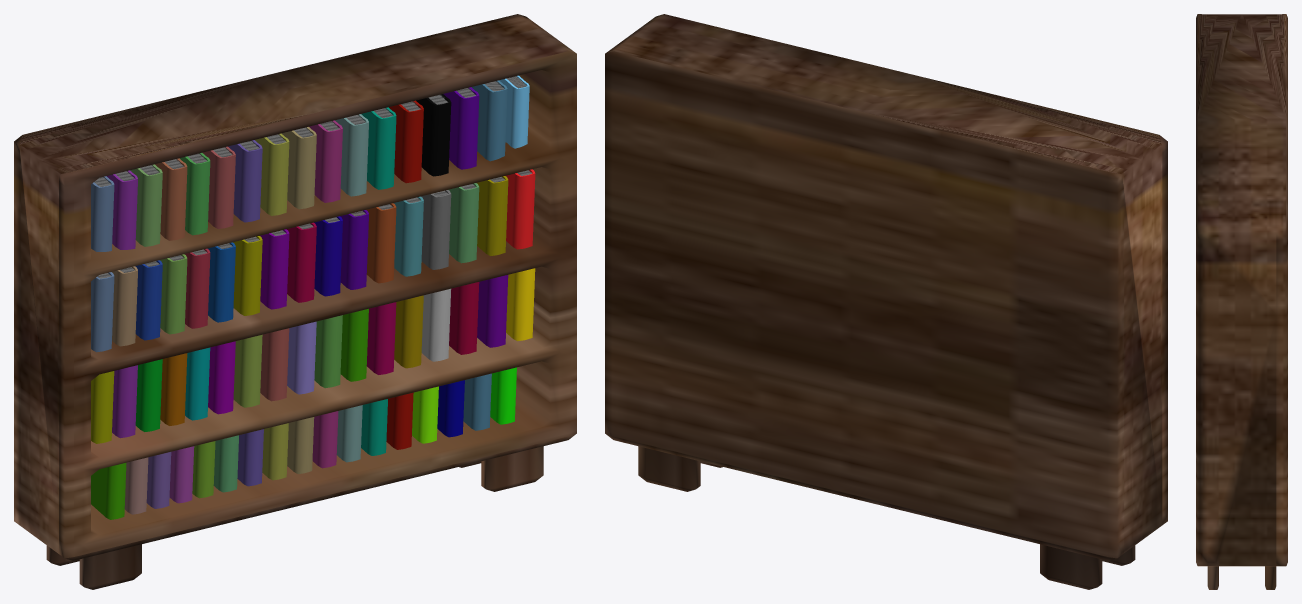
Rendered from librero.fbx.
3 renders of one model, left to right at view 1: azimuth 30°, elevation 25°; view 2: azimuth 150°, elevation 25°; view 3: azimuth 270°, elevation 25°, orthographic. The views are drawn at different scales.
Visible parts, largest first — view 1: Cube, book close_paper.014, book close_paper.020, book close_paper.008, book close_paper.012, book close_paper.013, book close_paper.011, book close_paper.015, book close_paper.006, book close_paper.007, book close_paper.021, book close_paper.009 (+57 smaller); view 2: Cube; view 3: Cube.
Boxes of the visible parts, x1,y1,x2,y2 form: Cube: [14, 14, 576, 589]; book close_paper.014: [443, 87, 479, 169]; book close_paper.020: [476, 176, 508, 255]; book close_paper.008: [281, 127, 316, 209]; book close_paper.012: [389, 100, 423, 183]; book close_paper.013: [416, 94, 451, 176]; book close_paper.011: [361, 107, 396, 189]; book close_paper.015: [471, 80, 507, 161]; book close_paper.006: [228, 140, 262, 222]; book close_paper.007: [255, 133, 289, 215]; book close_paper.021: [448, 183, 479, 263]; book close_paper.009: [309, 120, 342, 202]; Cube: [605, 14, 1167, 589]; Cube: [1196, 14, 1287, 589].
Size of the model in its own units: 1209 by 968 by 215.
273 materials, 1 textured.
